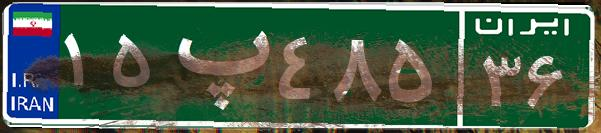1: (57, 26, 110, 107)
3: (475, 38, 525, 113)
4: (273, 28, 330, 110)
5: (385, 28, 445, 110), (110, 28, 158, 105)
6: (525, 38, 570, 115)
8: (330, 28, 385, 110)
پ: (158, 15, 273, 115)
